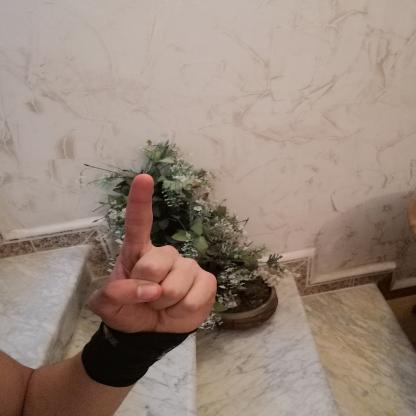BAA: (76, 164, 230, 348)
